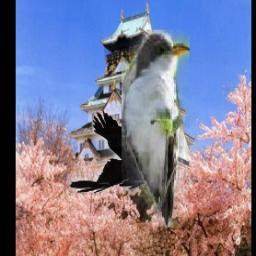Crow: (70, 111, 156, 193)
Cuckoo: (122, 31, 190, 229)
